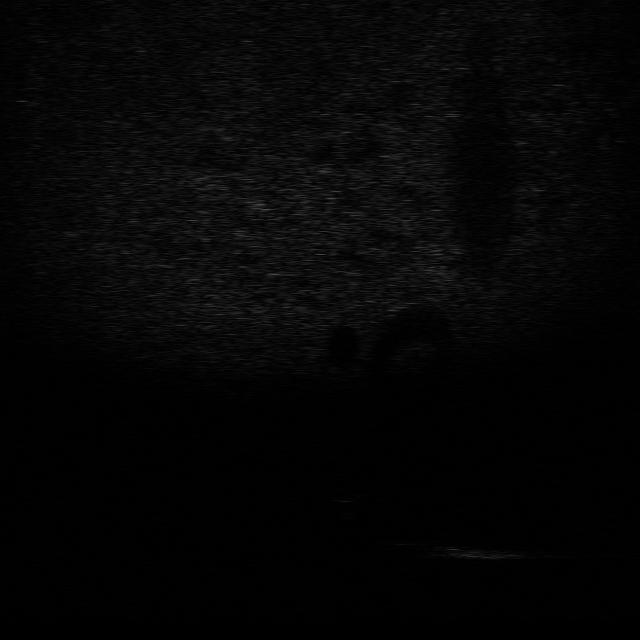ball: (319, 480, 366, 505)
metal bucket: (422, 537, 534, 565)
tyre: (385, 527, 449, 547)
